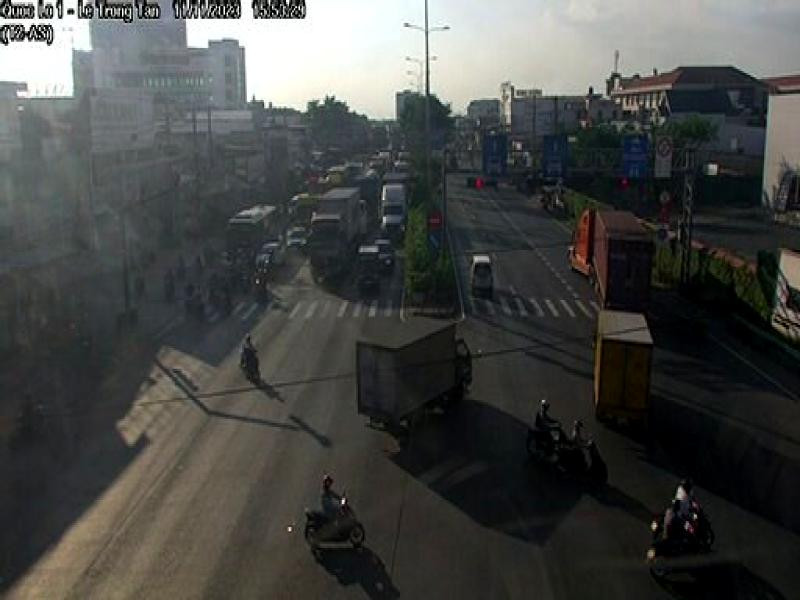truck: (340, 313, 481, 436), (589, 302, 655, 434), (568, 204, 654, 302)
